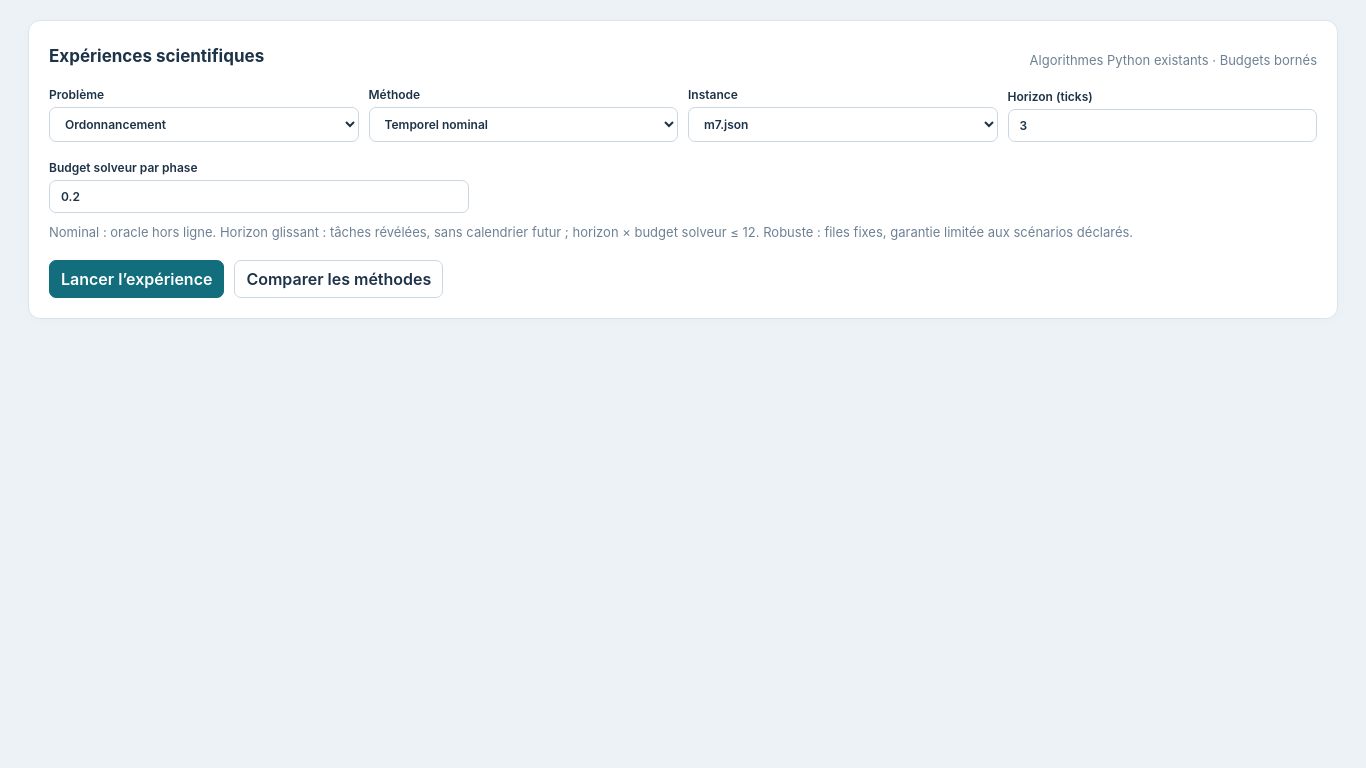
Test: V2 experiment controls and scientific results › submits valid native form and exact method m9/prioritized
Select "Planification multi-agent" in the dropdown with test id "milestone": coordinates (204, 124) [49,106,358,142]
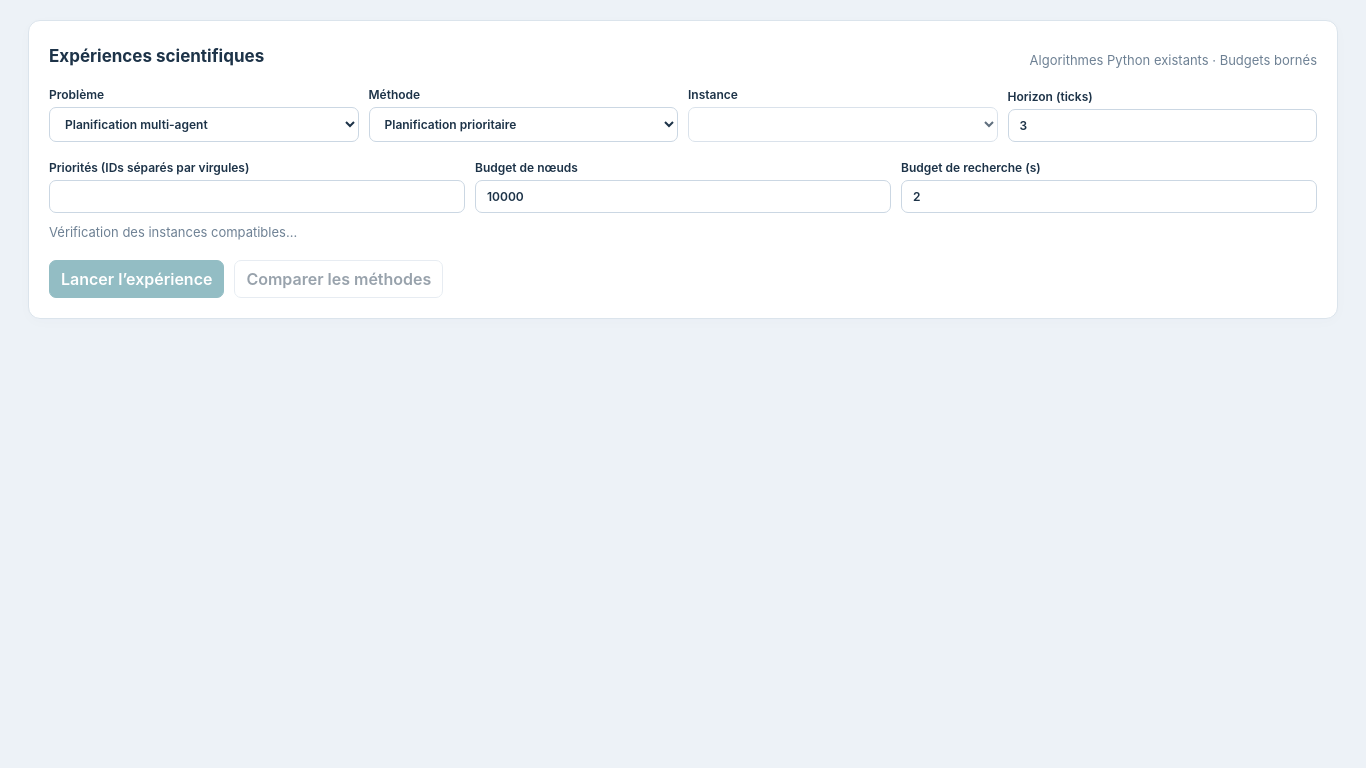
Select "Planification prioritaire" in the dropdown with test id "method": coordinates (523, 124) [368,106,678,142]
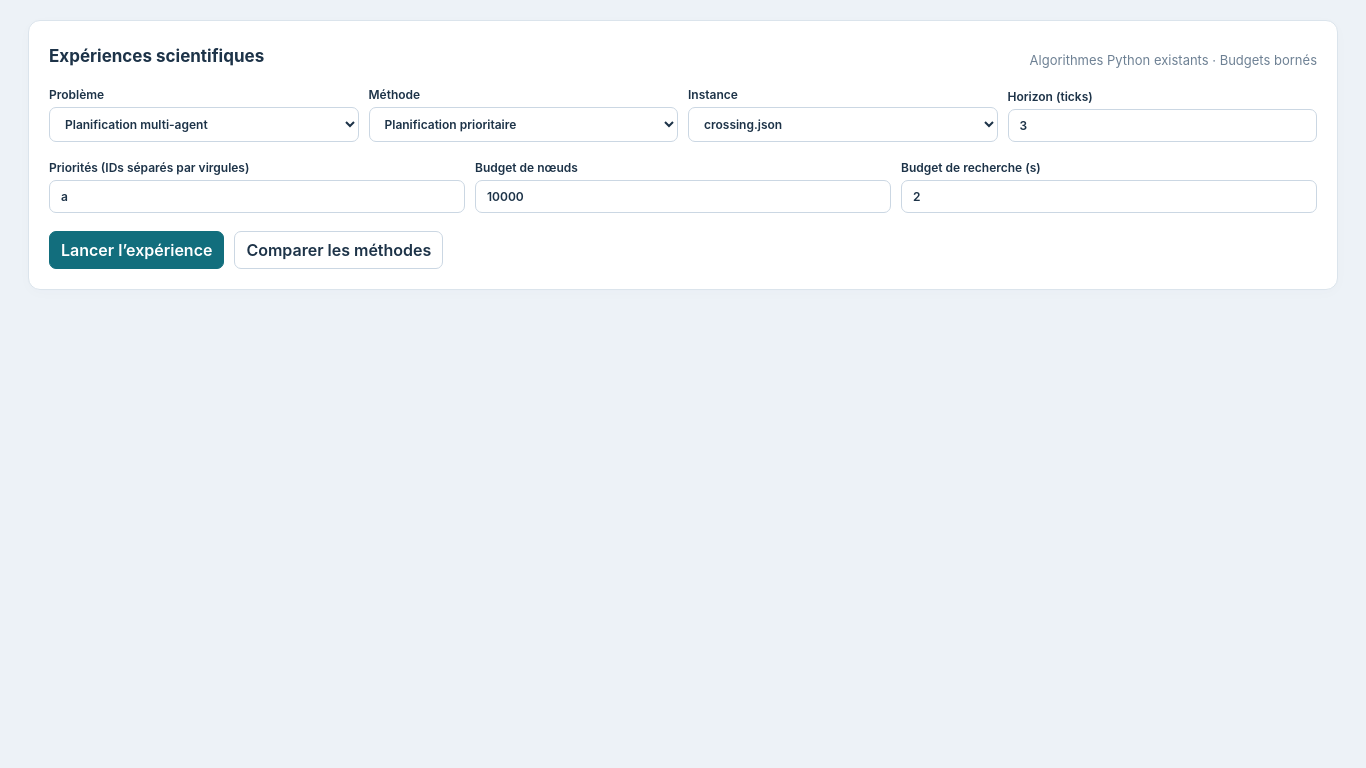
Submit the form, box [49,86,1317,268]
(page scrolled)
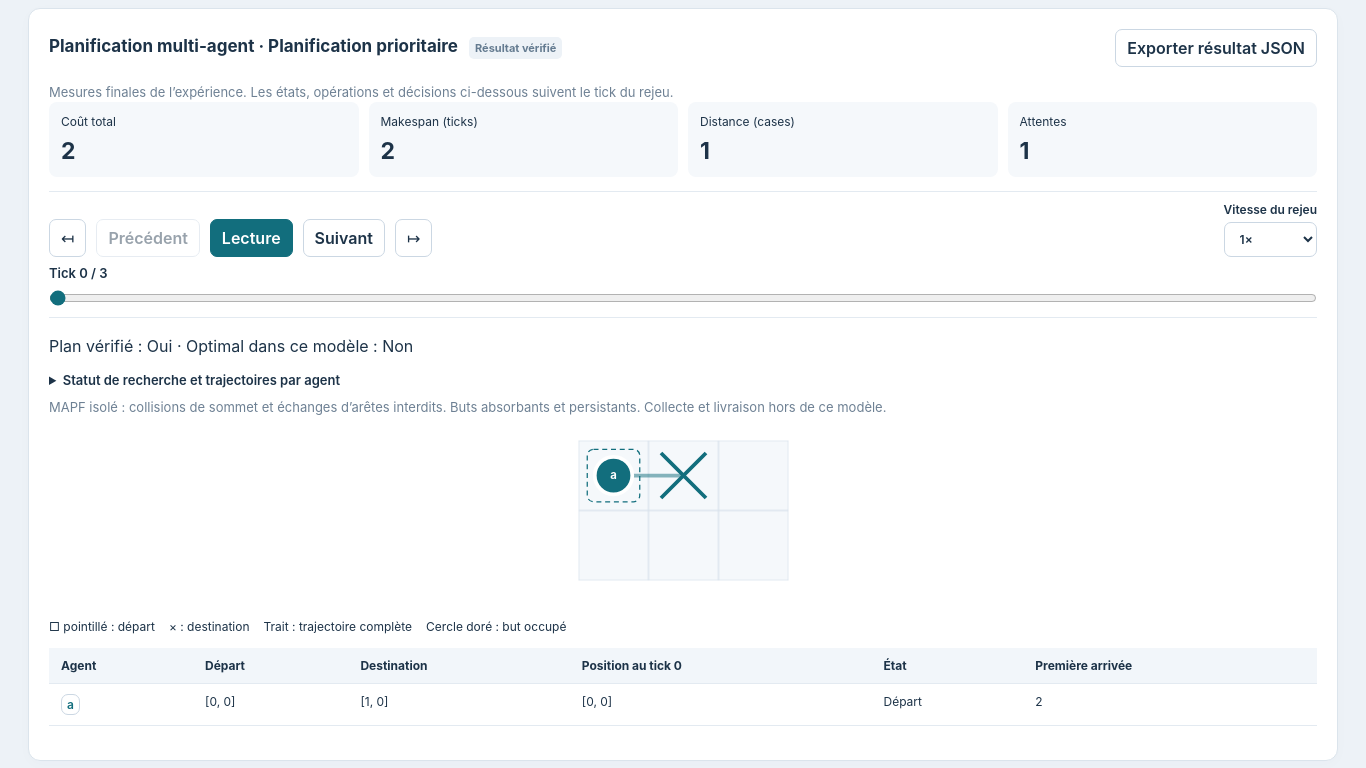
Expected: the element with test id "v2-result" is shown
